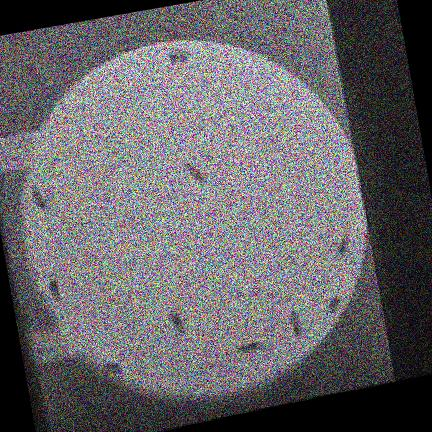fly: (170, 307, 185, 334), (184, 164, 205, 182), (33, 187, 48, 210), (49, 275, 61, 301), (238, 341, 262, 353), (338, 234, 350, 257), (291, 312, 302, 336), (169, 51, 190, 63), (327, 296, 341, 313), (106, 363, 123, 375)
